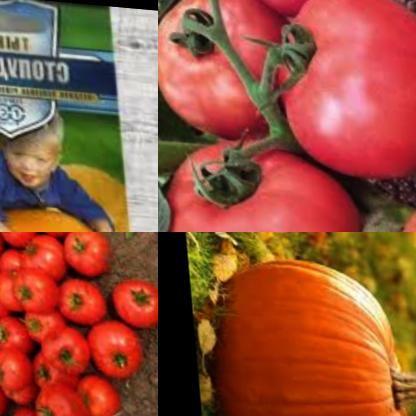pumpkin: (200, 245, 412, 416)
tomato: (255, 0, 416, 180), (158, 128, 358, 232), (158, 0, 291, 149), (74, 315, 141, 377), (103, 267, 158, 326), (32, 317, 85, 368), (374, 168, 416, 232), (52, 232, 108, 276), (62, 370, 115, 416), (54, 274, 99, 323), (16, 232, 67, 273), (22, 379, 78, 416), (4, 264, 50, 307), (22, 347, 67, 389), (11, 304, 59, 341), (0, 346, 25, 388), (0, 316, 24, 354)
